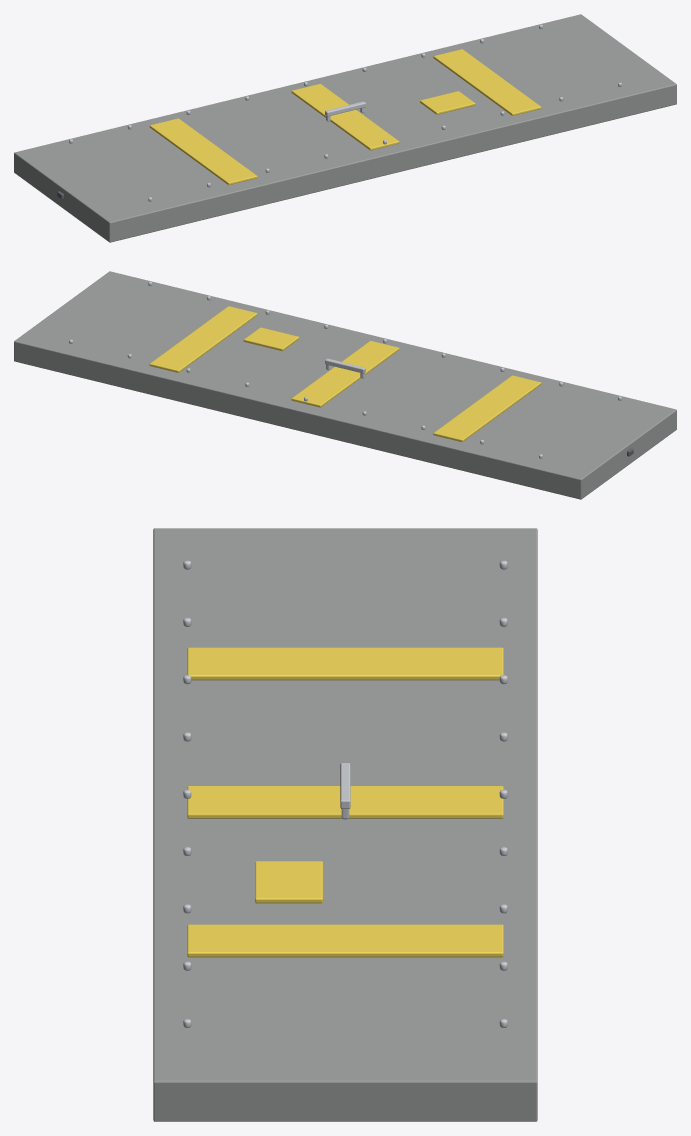
Rendered from крышка_люка.glb.
3 views of the same model, one above another, from view 1: azimuth 30°, elevation 25°; view 2: azimuth 150°, elevation 25°; view 3: azimuth 270°, elevation 25° (orthographic). The views are drawn at different scales.
Visible parts, largest first — view 1: крышка_люка; view 2: крышка_люка; view 3: крышка_люка.
Boxes of the visible parts, x1=… form: крышка_люка: x1=14, y1=14, x2=676, y2=242; крышка_люка: x1=14, y1=271, x2=676, y2=499; крышка_люка: x1=153, y1=528, x2=537, y2=1121.
Size of the model in its own units: 11.65 by 0.625 by 3.4.
